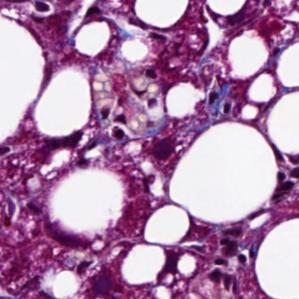inflammation: (141, 128, 188, 171), (98, 98, 133, 147)
